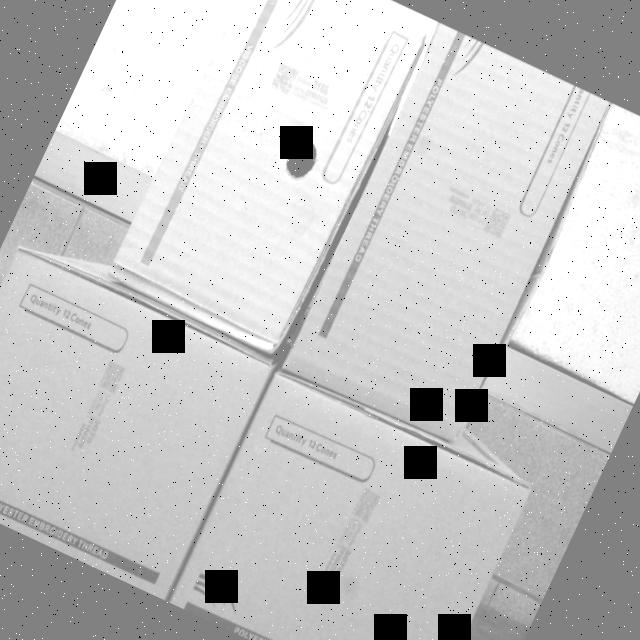box: (283, 24, 616, 447), (105, 0, 431, 357), (0, 244, 271, 598), (169, 375, 529, 640)
